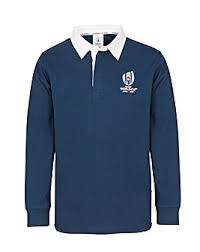C_polo shirt: (20, 23, 181, 232)
